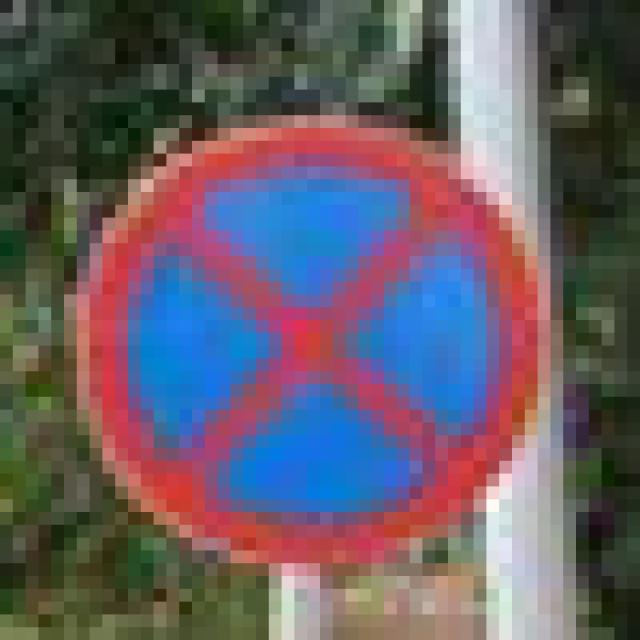no_parking: (64, 102, 538, 550)
